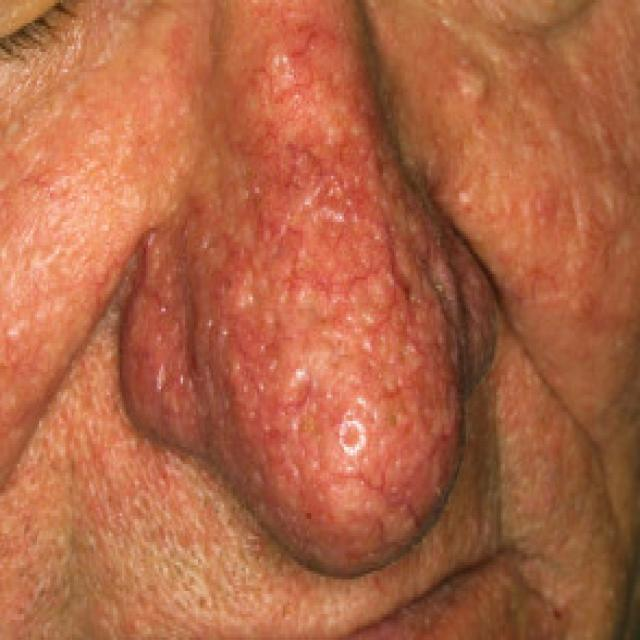Rosacea: (134, 9, 482, 539)
